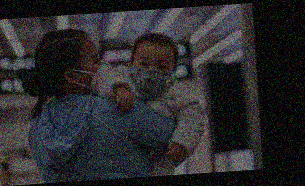with_mask: (128, 54, 174, 100), (88, 49, 113, 96)
